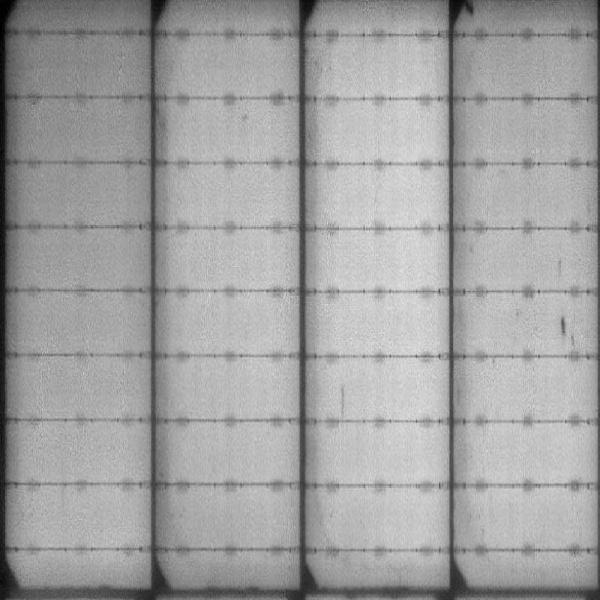broken: (464, 1, 482, 25)
scratch: (555, 309, 582, 351), (334, 372, 350, 420)
